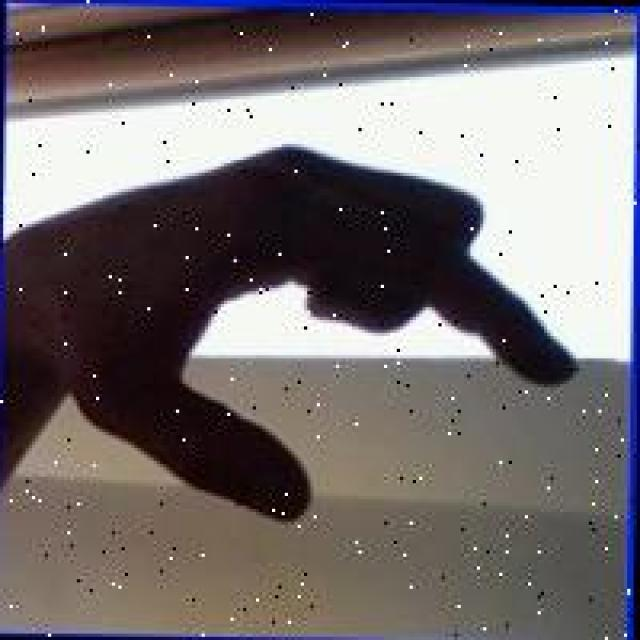Q: (40, 132, 590, 530)
